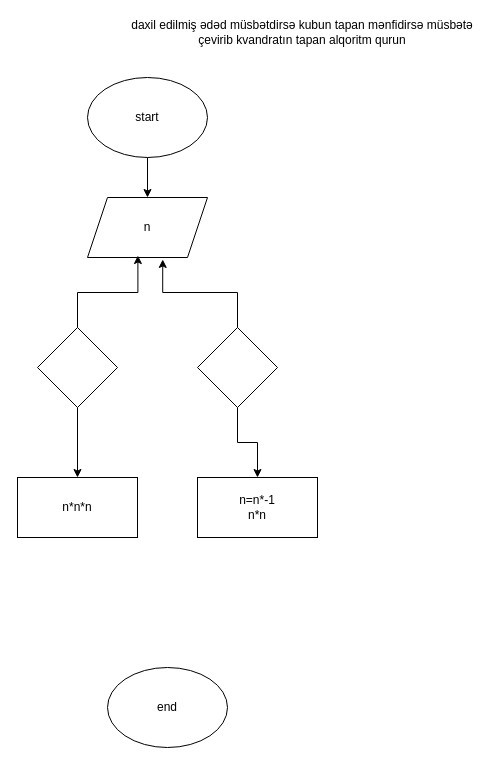
Image size: 495x765. Some labels were removed from this diagram. The centre of each missing label's shape, as x and y in pixels:
"n >0" goes at (77,367).
"n<0" goes at (237,367).
